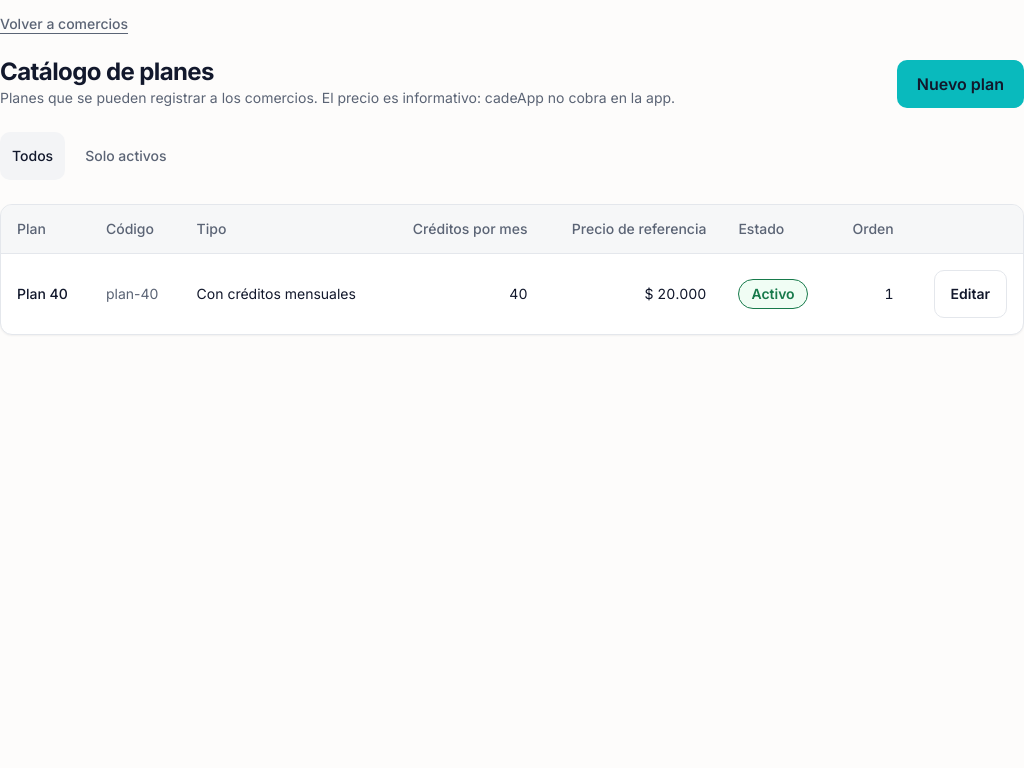
Scenario: T-369 / CC-029 — catálogo de planes (admin) › editar: precarga el plan y muestra PLAN_IN_USE si se cambia el cupo de uno en uso
Click the button named "Editar el plan Plan 40".
click(970, 294)  # box [934,270,1007,318]
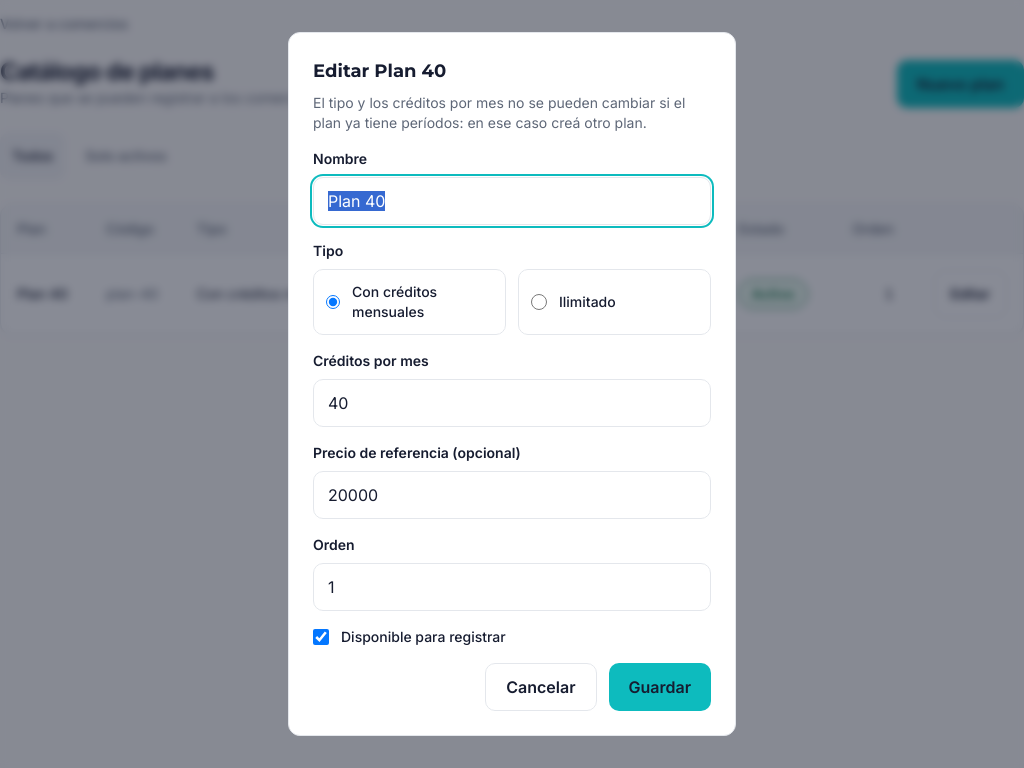
Expected: the field labelled "Créditos por mes" holds "40"
Replace the text in the field labelled "Créditos por mes" with "50" at coordinates (512, 403), box [313,379,711,427]
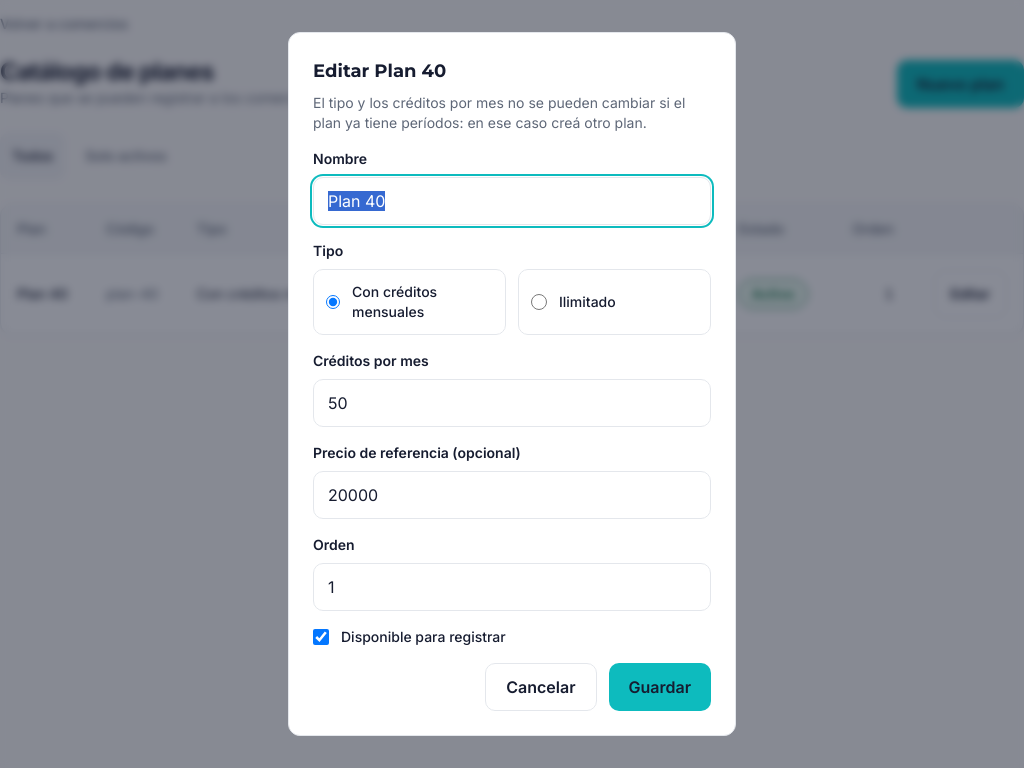
Click the button "Guardar".
click(660, 687)  # box [608,663,711,711]
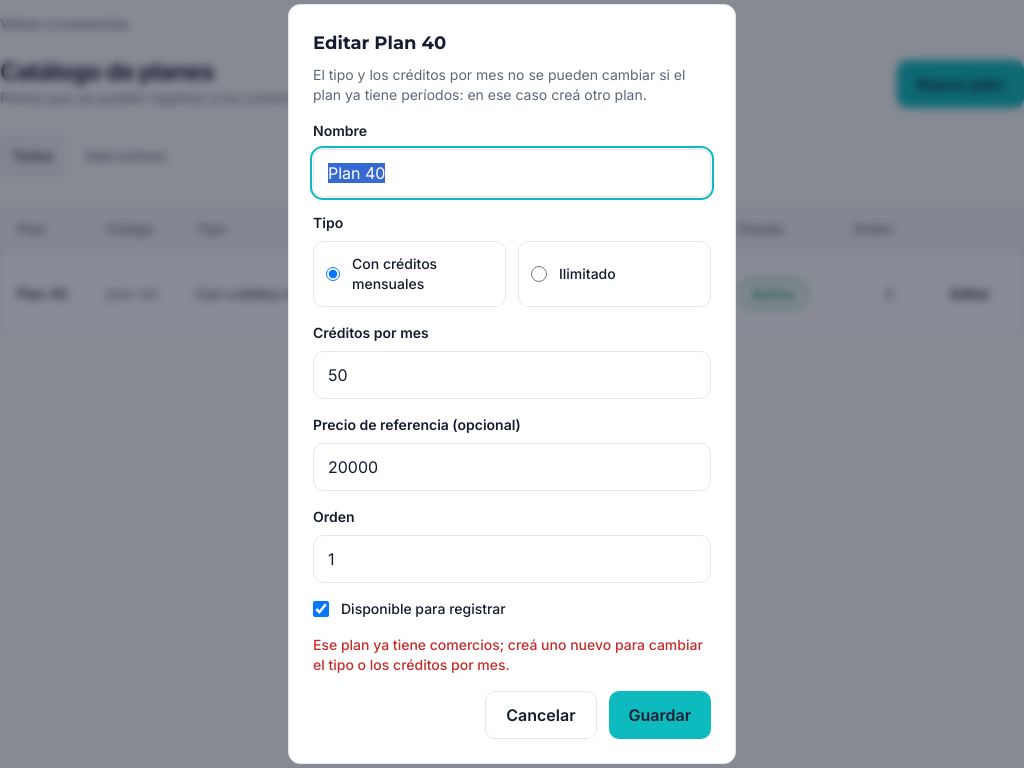
Expected: the message shows "Ese plan ya tiene comercios; creá uno nuevo para cambiar el tipo o los créditos por mes.", [313,636,703,673]
